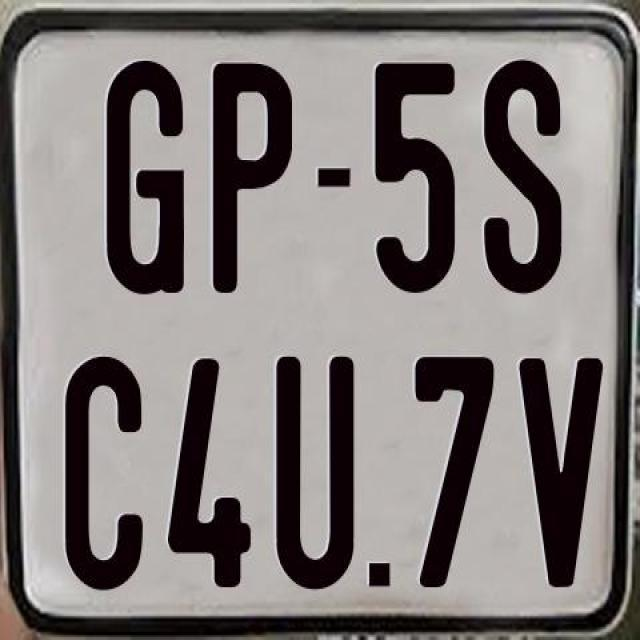4: (166, 354, 252, 590)
5: (374, 62, 454, 301)
7: (413, 352, 499, 589)
C: (61, 355, 140, 592)
G: (105, 60, 184, 302)
P: (212, 61, 291, 292)
S: (481, 54, 558, 293)
U: (276, 352, 362, 594)
V: (516, 358, 603, 592)
